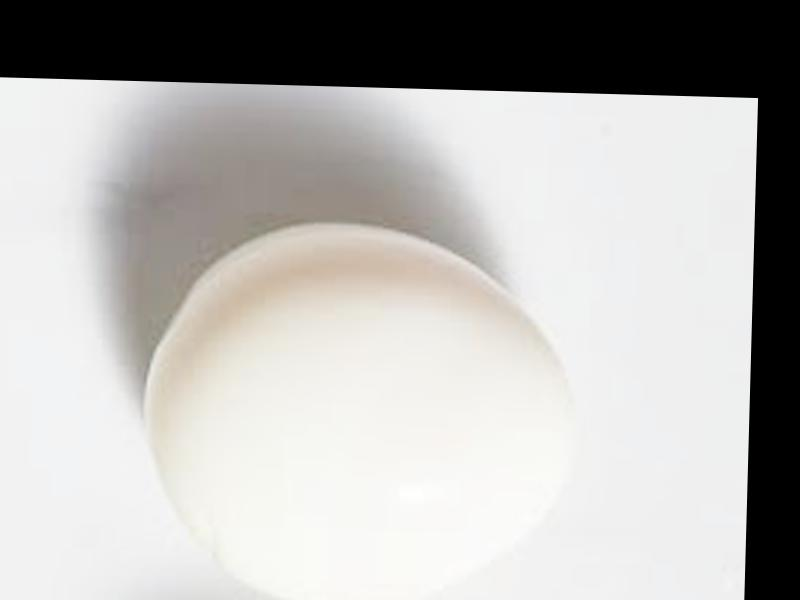Eggs: (137, 218, 577, 600)
